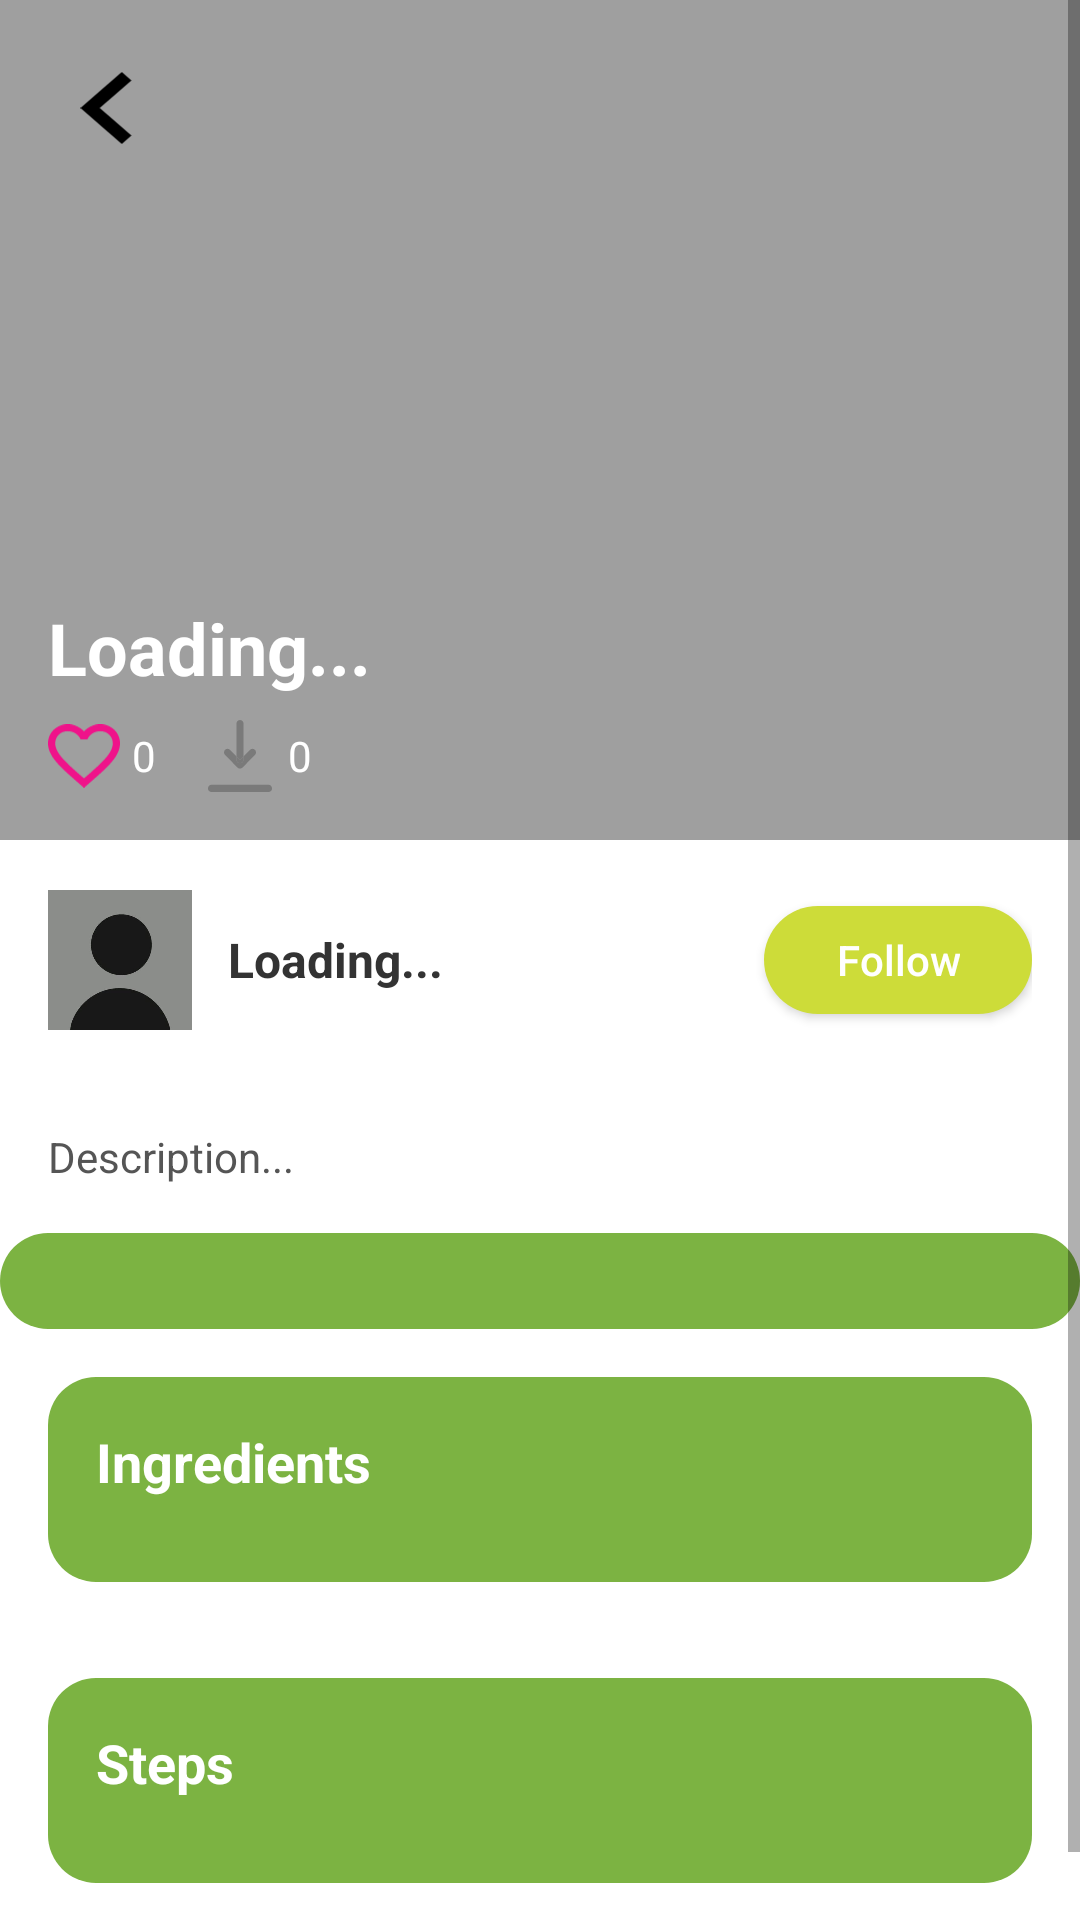

Screen size 1080×1920. Icon name, then its box in pixels as (x1, y1, x2, y2):
Back button: (80, 72, 132, 144)
Download recipe: (208, 720, 272, 792)
Like recipe: (48, 724, 120, 788)
